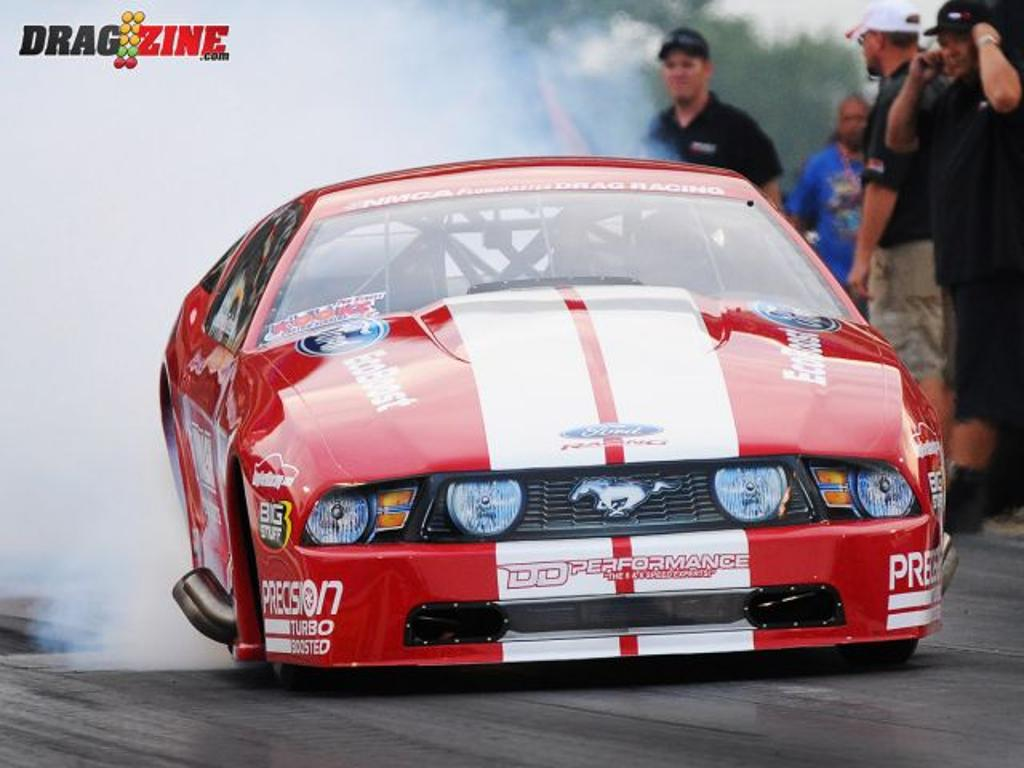face: (662, 52, 704, 97), (937, 32, 975, 77), (837, 101, 867, 144), (862, 30, 886, 73)
